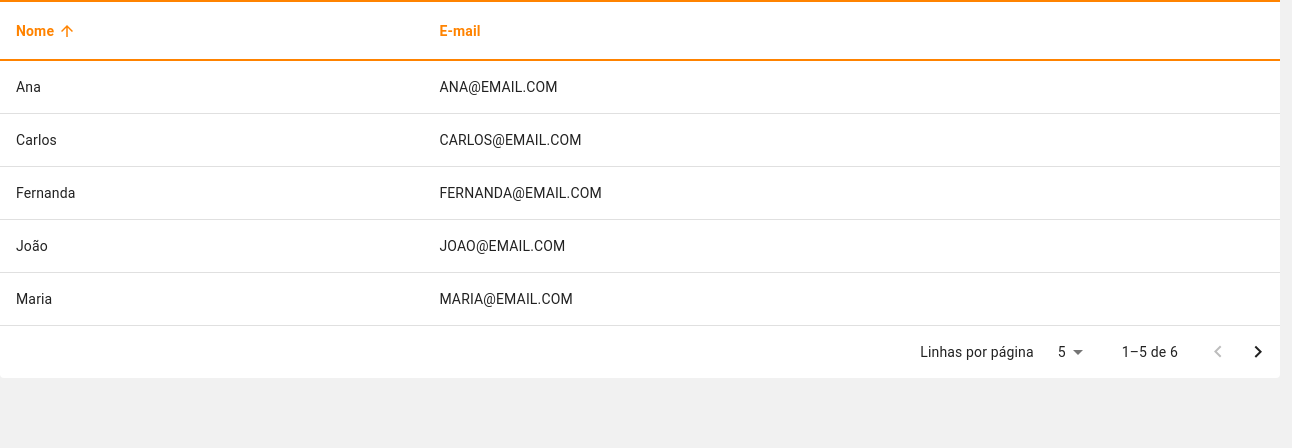
Scenario: GenericTable — extended coverage › client-side pagination: next page and change rows-per-page
Expected: the element with test id "table-pagination" is shown, [920,332,1278,372]
Expected: the text "Pedro" is not shown
Click the button named "next page". click: (1258, 352)
box: [1238,332,1278,372]
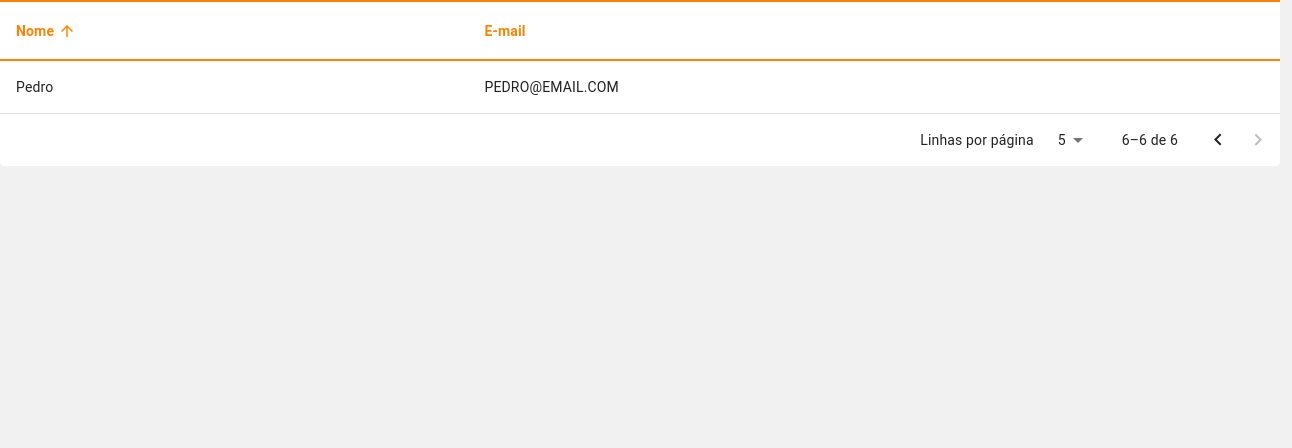
Now the text "Pedro" is shown, box [0,61,468,114]
Click the dropdown named "Linhas por página". click: (1062, 140)
box: [1058,132,1066,148]
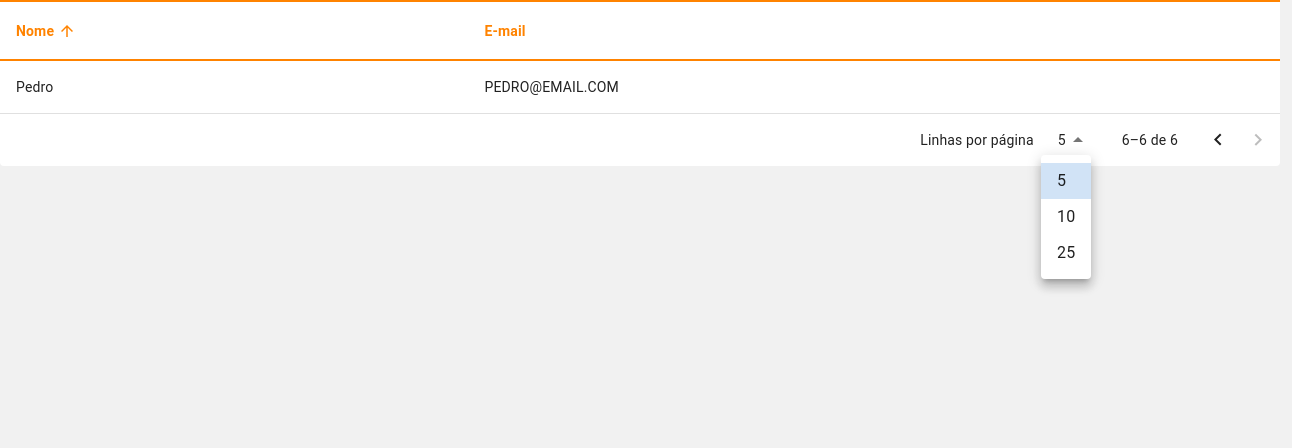
Click the option "10". click: (1066, 216)
box: [1057,207,1075,226]
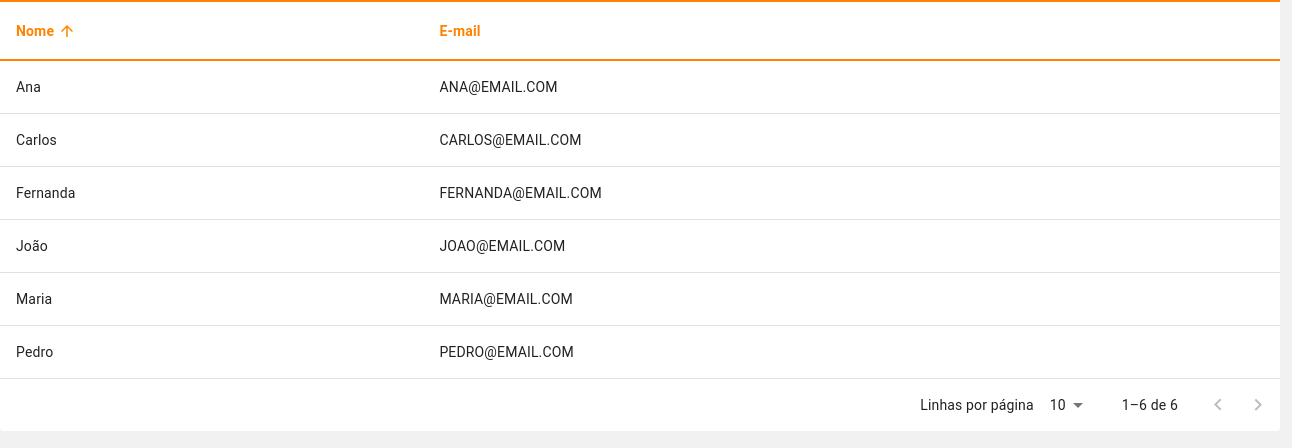
Now the text "Pedro" is shown, box [0,326,423,379]
Now the text "Ana" is shown, box [0,61,423,114]
